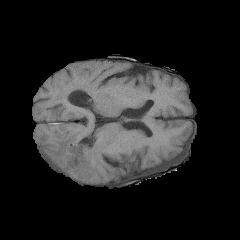glioma: (39, 96, 106, 179)
